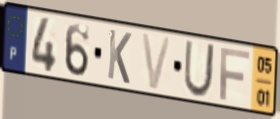4: (29, 15, 58, 74)
6: (64, 21, 91, 79)
F: (218, 46, 251, 103)
K: (106, 27, 133, 87)
U: (182, 39, 217, 100)
V: (139, 31, 174, 92)
